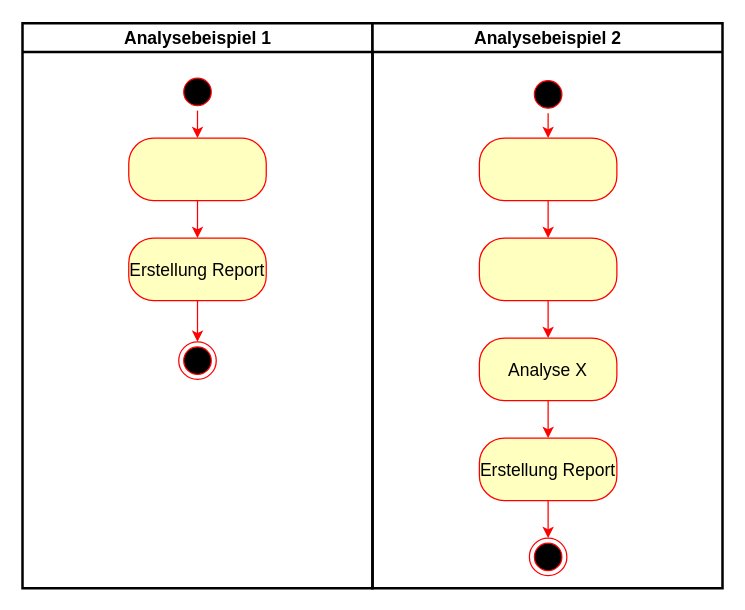
This 745x610 diagram has some shape labels left out. The centre of each missing label's shape, as x and y in pixels:
Analyse: point 197,169
Analyse 1: point 547,169
Analyse 2: point 547,269
